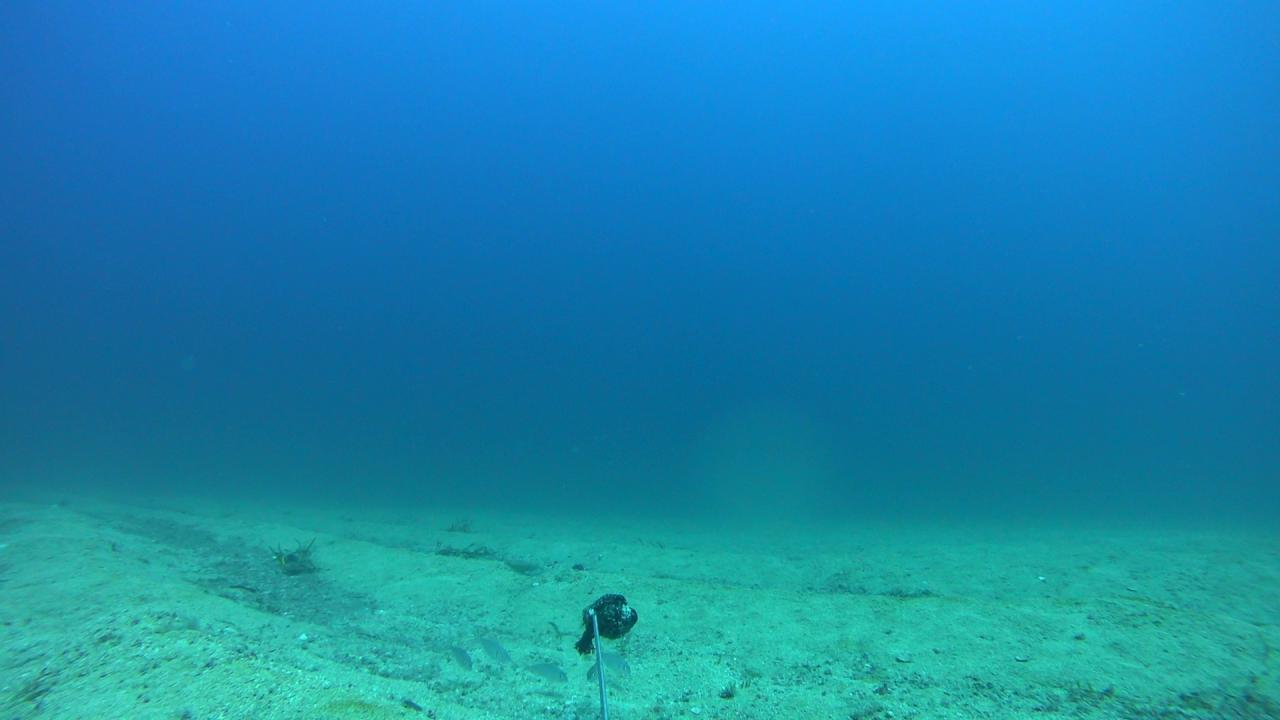pagellus: (520, 663, 571, 684), (444, 640, 477, 671), (478, 636, 511, 662), (598, 654, 635, 676)
